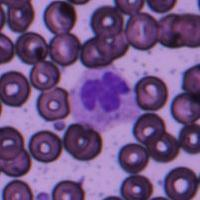N: (68, 65, 135, 132)
